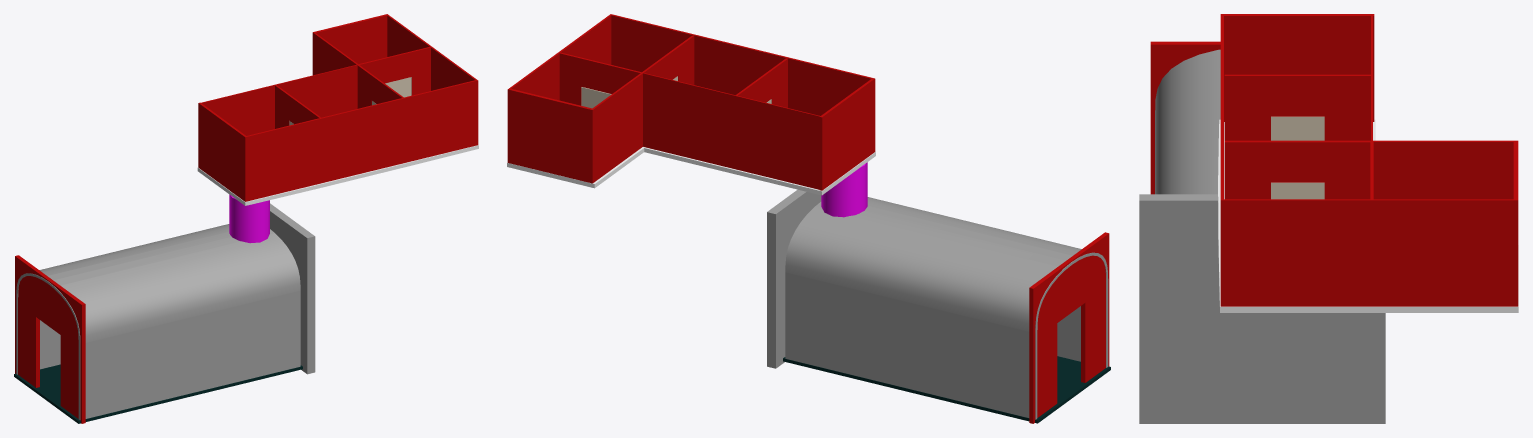
3 views of the same model, side by side, from view 1: azimuth 30°, elevation 25°; view 2: azimuth 150°, elevation 25°; view 3: azimuth 270°, elevation 25° (orthographic). The views are drawn at different scales.
Parts seen in each view (by area): view 1: WALL2, wall, DOOR1, WALL1, door_wall, FLOOR, Pipe, floor, door_wall_1, door_wall_2; view 2: WALL2, wall, DOOR1, WALL1, door_wall, FLOOR, floor, Pipe, door_wall_1, door_wall_2; view 3: wall, WALL1, WALL2, door_wall_2, door_wall_1, floor, DOOR1, doors_2, doors_1.
Part boxes in pixels (x1,y1,x2,y2): WALL2: [16, 224, 300, 419]; wall: [198, 14, 478, 201]; DOOR1: [15, 255, 85, 423]; WALL1: [270, 203, 315, 374]; door_wall: [359, 47, 430, 95]; FLOOR: [14, 364, 302, 423]; Pipe: [229, 194, 269, 243]; floor: [197, 145, 478, 205]; door_wall_1: [357, 65, 403, 108]; door_wall_2: [275, 85, 320, 128]; WALL2: [785, 197, 1108, 419]; wall: [507, 14, 875, 190]; DOOR1: [1029, 232, 1109, 423]; WALL1: [767, 189, 821, 368]; door_wall: [559, 52, 641, 105]; FLOOR: [783, 356, 1110, 423]; floor: [507, 147, 875, 195]; Pipe: [821, 162, 867, 217]; door_wall_1: [642, 35, 694, 84]; door_wall_2: [736, 58, 787, 107]; wall: [1220, 14, 1518, 306]; WALL1: [1139, 194, 1385, 423]; WALL2: [1155, 49, 1220, 194]; door_wall_2: [1224, 74, 1370, 140]; door_wall_1: [1224, 140, 1370, 199]; floor: [1218, 119, 1518, 312]; DOOR1: [1150, 41, 1220, 194]; doors_2: [1271, 116, 1324, 140]; doors_1: [1271, 182, 1324, 199].
Size of the model in its own units: 5382 by 2788 by 2565.
